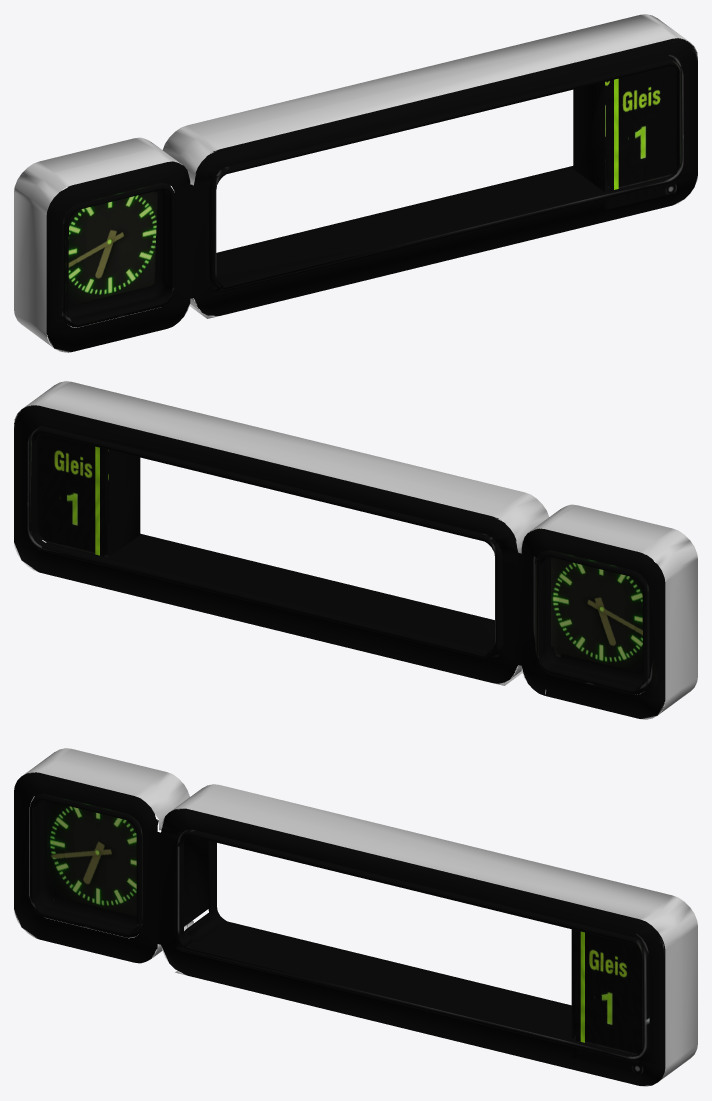
File: vienna-subway-pid1.obj
3 views of the same model, one above another, from view 1: azimuth 30°, elevation 25°; view 2: azimuth 150°, elevation 25°; view 3: azimuth 330°, elevation 25° (orthographic).
Visible parts, largest first — view 1: Untitled; view 2: Untitled; view 3: Untitled.
Boxes of the visible parts, box(x1,y1,x2,y2) form: Untitled: box(14, 14, 697, 352); Untitled: box(14, 381, 697, 719); Untitled: box(14, 748, 697, 1086).
Bounding box in the file's own units: 3.21 × 0.785 × 0.3301.
Materials: 3 (1 with a texture image).
